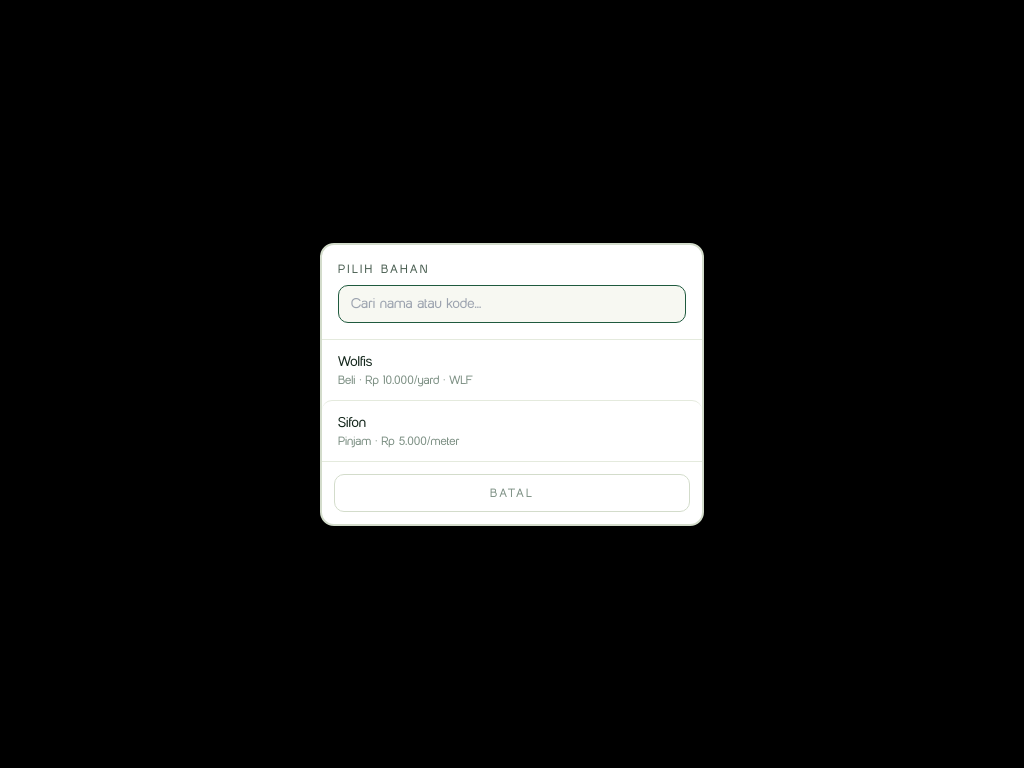
Test: BahanPickerModal › filters options by search query (nama_bahan via _label)
The image size is (1024, 768).
In the field with placeholder "Cari nama atau kode...": (512, 304) left=338, top=284, right=686, bottom=322, type "Wolfis"
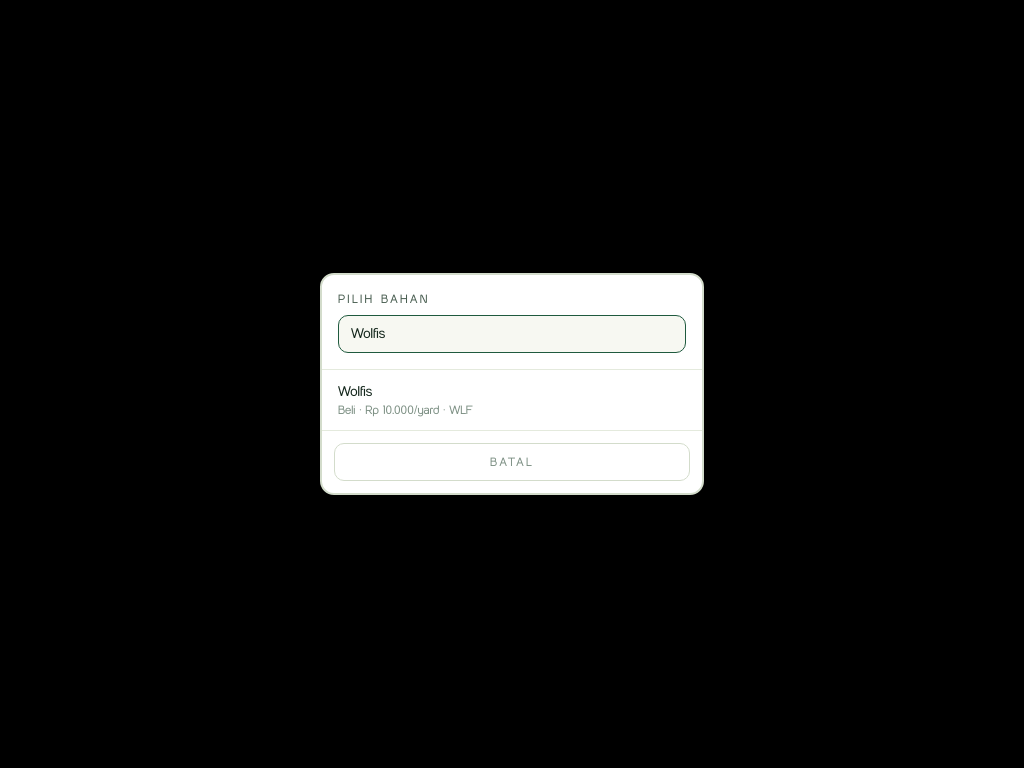
Expected: the text "Wolfis" is shown, left=338, top=383, right=372, bottom=400
Now the button "Sifon" is gone
